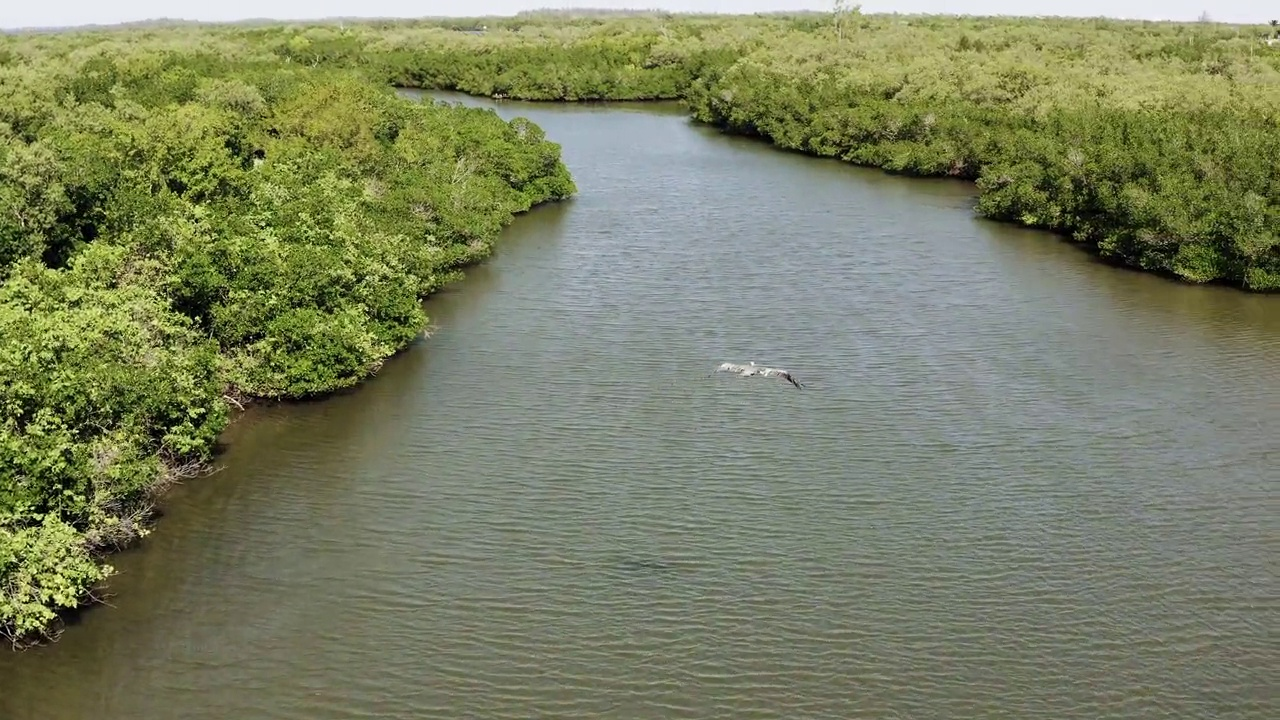bird: (707, 358, 801, 388)
